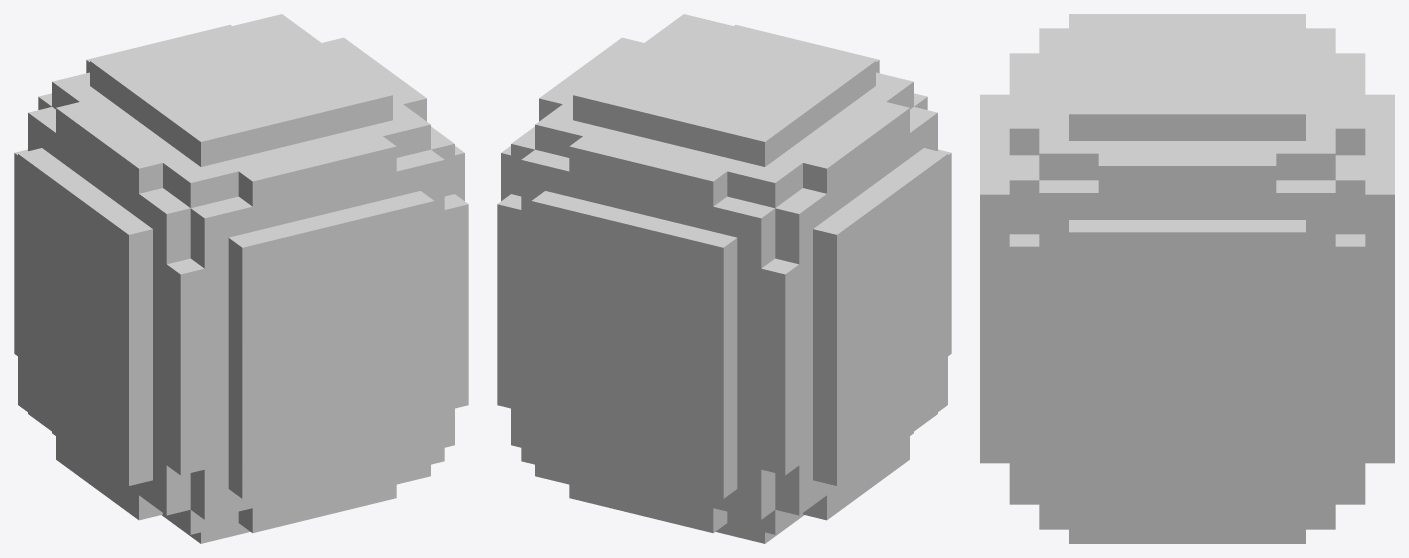
File: Bowl.obj
3 views of the same model, side by side, from view 1: azimuth 30°, elevation 25°; view 2: azimuth 150°, elevation 25°; view 3: azimuth 270°, elevation 25° (orthographic). The views are drawn at different scales.
Bounding box in the file's own units: 1.4 × 1.6 × 1.4.
Materials: 1 (1 with a texture image).
